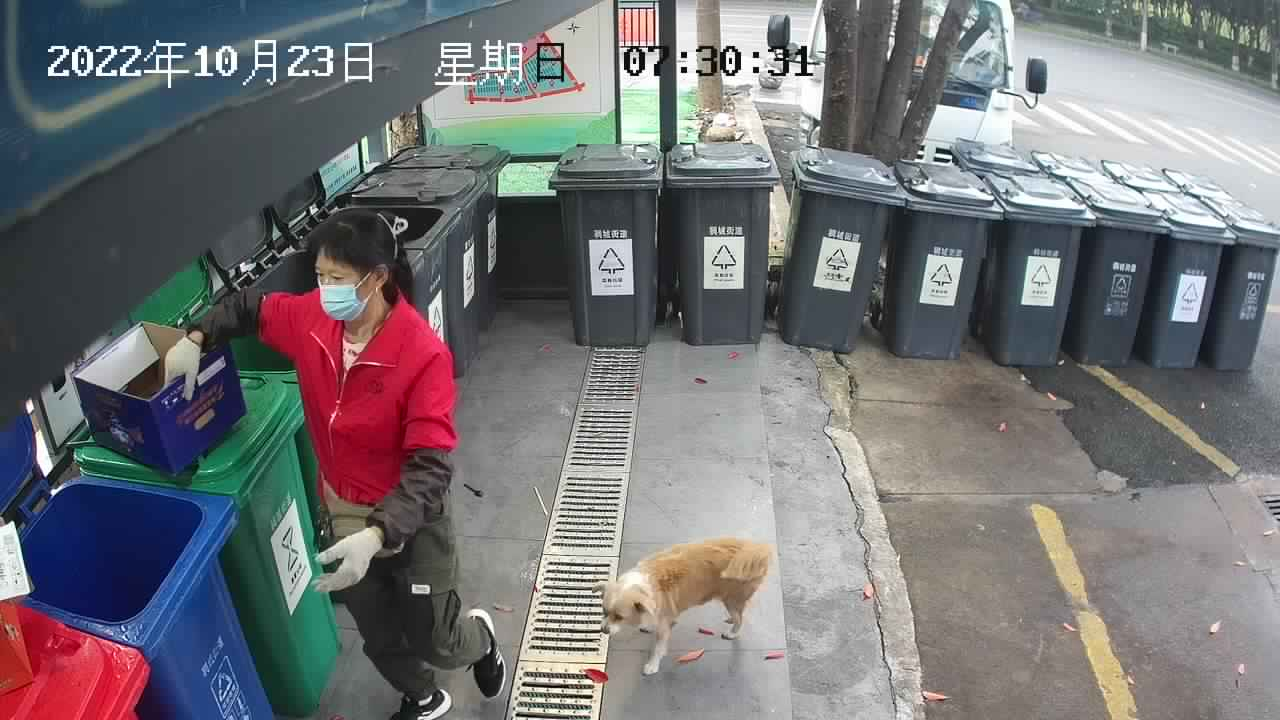bumingwu: (587, 532, 780, 681)
person: (159, 205, 513, 720)
